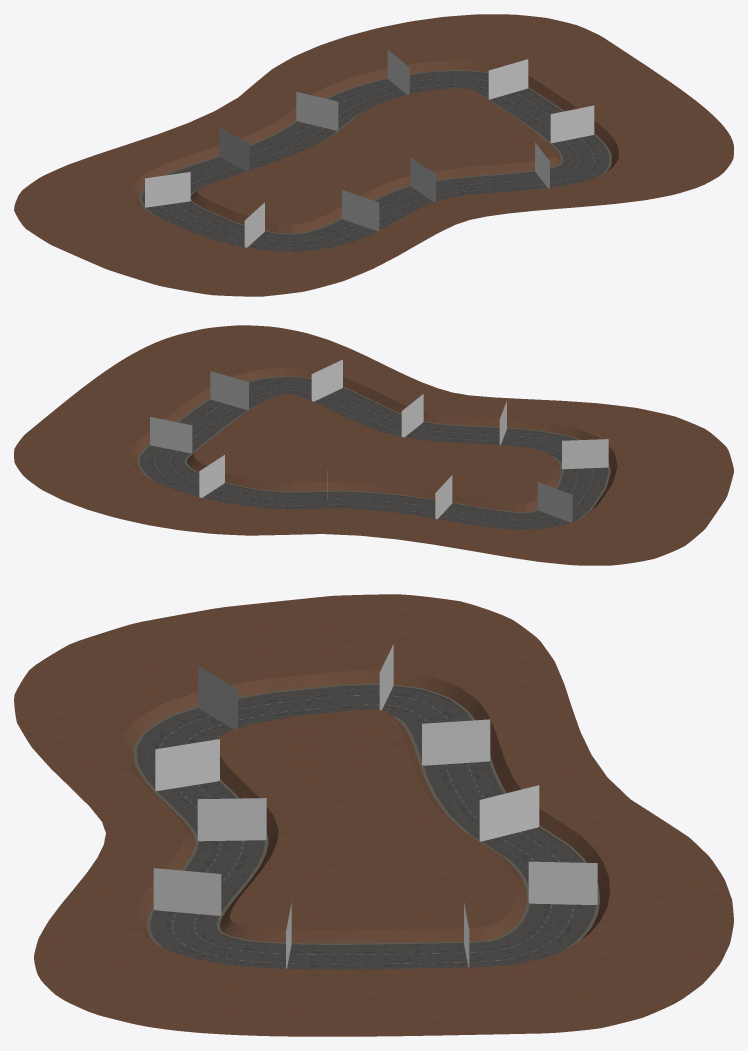
Rendered from race_track_1-1.fbx.
3 renders of one model, top to bottom at view 1: azimuth 30°, elevation 25°; view 2: azimuth 150°, elevation 25°; view 3: azimuth 270°, elevation 25°, orthographic. The views are drawn at different scales.
Visible parts, largest first — view 1: Road.001, Road, Checkpoint.007, Checkpoint.002, Checkpoint.005, Checkpoint.003, Checkpoint.009, Checkpoint.006, Checkpoint, Checkpoint.004, Checkpoint.008; view 2: Road.001, Road, Checkpoint.008, Checkpoint.003, Checkpoint.002, Checkpoint.007, Checkpoint.001, Checkpoint.004, Checkpoint, Checkpoint.006; view 3: Road.001, Road, Checkpoint, Checkpoint.004, Checkpoint.006, Checkpoint.001, Checkpoint.009, Checkpoint.005, Checkpoint.008.
Boxes of the visible parts, box(x1,y1,x2,y2) form: Road.001: box(14, 14, 733, 296); Road: box(132, 61, 618, 251); Checkpoint.007: box(145, 172, 190, 207); Checkpoint.002: box(550, 105, 594, 143); Checkpoint.005: box(296, 91, 338, 130); Checkpoint.003: box(488, 59, 528, 99); Checkpoint.009: box(342, 189, 379, 231); Checkpoint.006: box(219, 127, 249, 170); Checkpoint: box(410, 157, 435, 201); Checkpoint.004: box(387, 50, 409, 94); Checkpoint.008: box(244, 202, 264, 247); Road.001: box(14, 325, 733, 565); Road: box(131, 367, 617, 529); Checkpoint.008: box(562, 439, 608, 469); Checkpoint.003: box(150, 417, 192, 453); Checkpoint.002: box(210, 371, 248, 410); Checkpoint.007: box(537, 482, 572, 522); Checkpoint.001: box(311, 359, 342, 401); Checkpoint.004: box(199, 455, 224, 497); Checkpoint: box(401, 394, 423, 437); Checkpoint.006: box(435, 475, 452, 519); Road.001: box(14, 594, 733, 1036); Road: box(123, 670, 609, 969); Checkpoint: box(197, 798, 266, 841); Checkpoint.004: box(528, 861, 597, 904); Checkpoint.006: box(422, 719, 490, 765); Checkpoint.001: box(153, 868, 221, 915); Checkpoint.009: box(155, 739, 219, 790); Checkpoint.005: box(479, 785, 539, 841); Checkpoint.008: box(198, 666, 237, 729).
Size of what is drawn, in the model's own units: 31574 by 1400 by 21707.
Materials: 4 (3 with a texture image).
